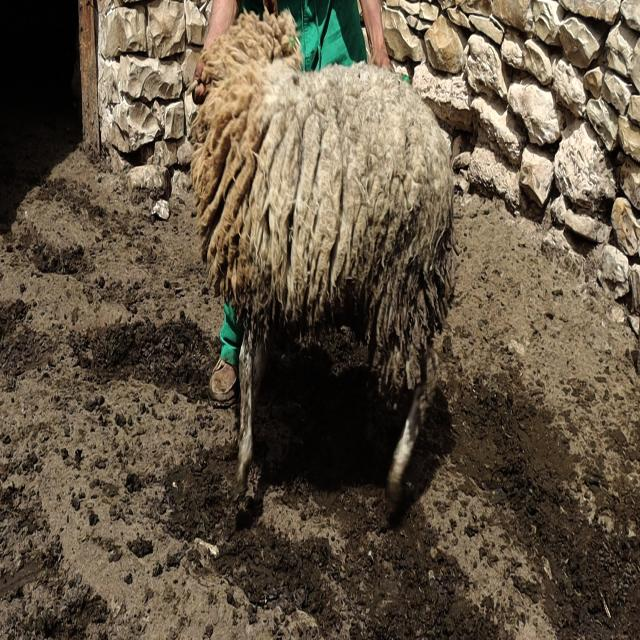Score_2: (191, 10, 456, 511)
